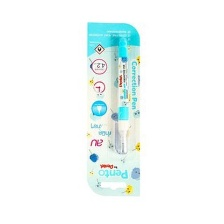book: (84, 20, 142, 199)
correction_fluid: (113, 35, 133, 157)
